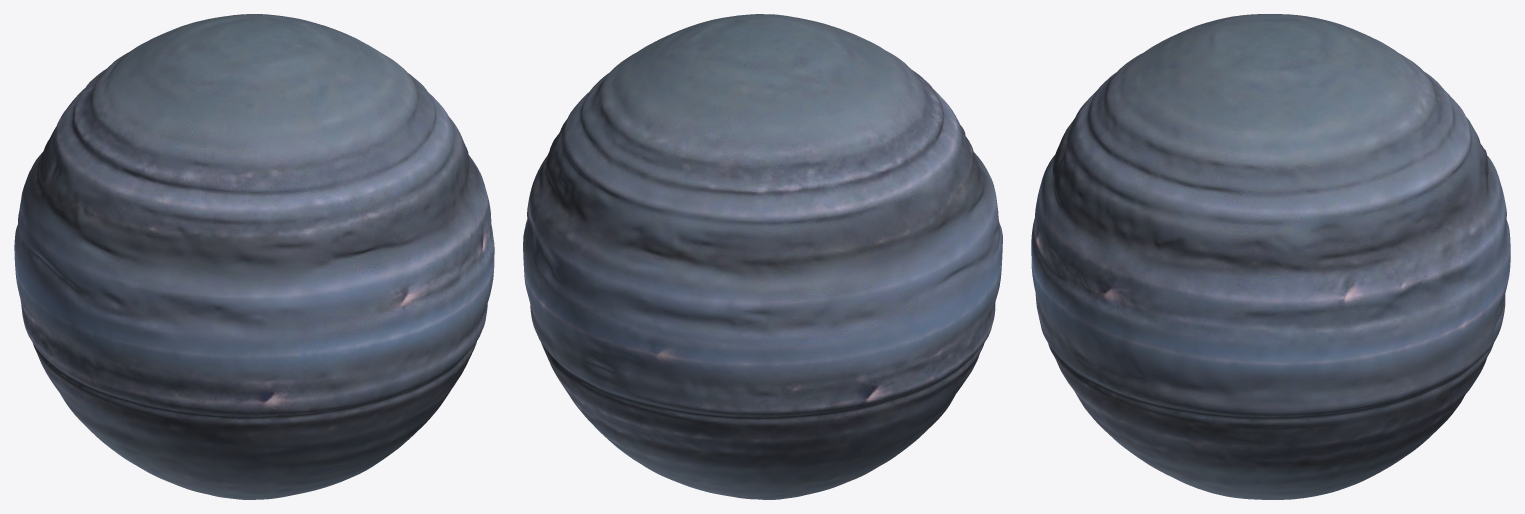
Rendered from sadness.glb.
3 views of the same model, side by side, from view 1: azimuth 30°, elevation 25°; view 2: azimuth 150°, elevation 25°; view 3: azimuth 270°, elevation 25° (orthographic).
Visible parts, largest first — view 1: geometry_0; view 2: geometry_0; view 3: geometry_0.
Part boxes in pixels (x1,y1,x2,y2): geometry_0: [14, 14, 494, 499]; geometry_0: [523, 14, 1002, 499]; geometry_0: [1031, 14, 1510, 499].
Bounding box in the file's own units: 0.5887 × 0.6027 × 0.589.
1 material, 1 textured.
